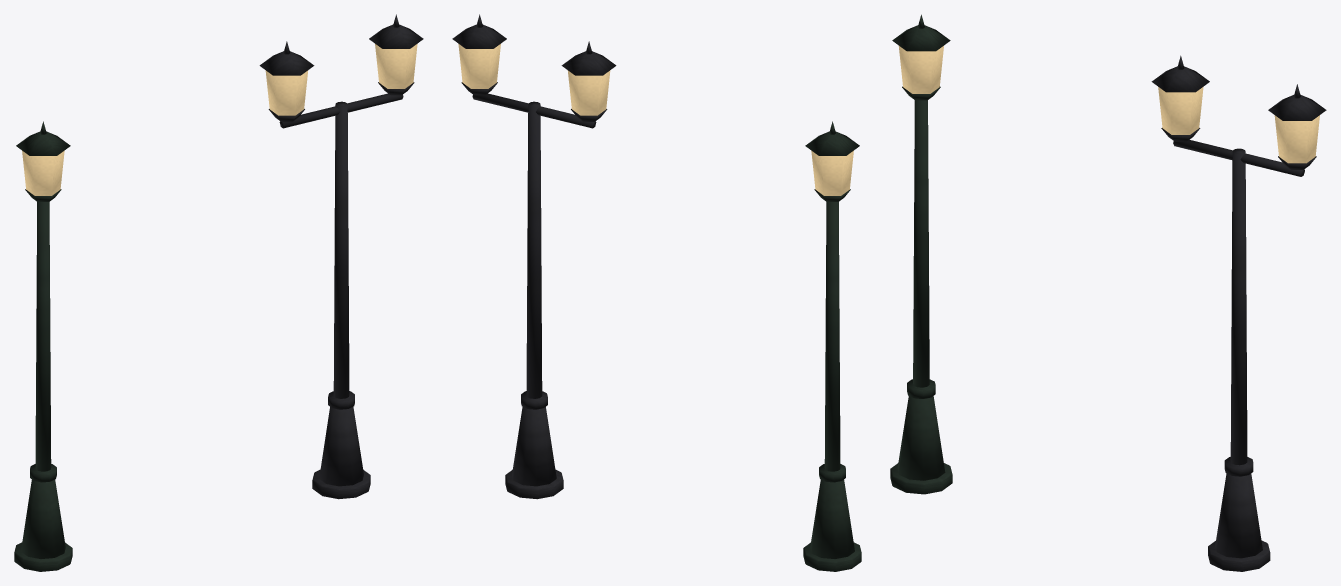
File: lamp_lantern.glb
The picture shows the model from 3 angles, left to right: view 1: azimuth 30°, elevation 25°; view 2: azimuth 150°, elevation 25°; view 3: azimuth 330°, elevation 25°; orthographic projection. The views are drawn at different scales.
Visible parts, largest first — view 1: lamp_lantern_v2, lamp_lantern_v1; view 2: lamp_lantern_v2, lamp_lantern_v1; view 3: lamp_lantern_v2, lamp_lantern_v1.
Part boxes in pixels (left/top/right/bottom): lamp_lantern_v2: left=259, top=14, right=423, bottom=499; lamp_lantern_v1: left=14, top=121, right=72, bottom=571; lamp_lantern_v2: left=452, top=14, right=616, bottom=499; lamp_lantern_v1: left=803, top=121, right=861, bottom=571; lamp_lantern_v2: left=1151, top=55, right=1326, bottom=571; lamp_lantern_v1: left=890, top=14, right=952, bottom=494.
Size of the model in its own units: 4.01 by 4.42 by 0.52.
2 materials, 2 textured.
